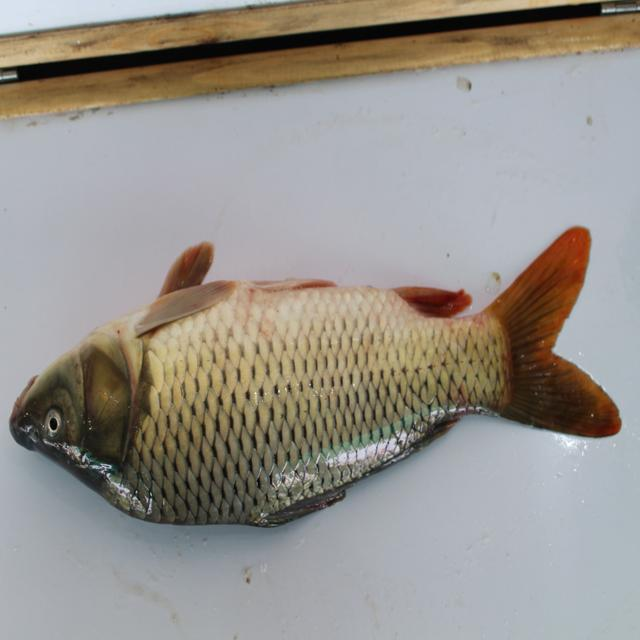CommonCarp: (9, 222, 628, 537)
